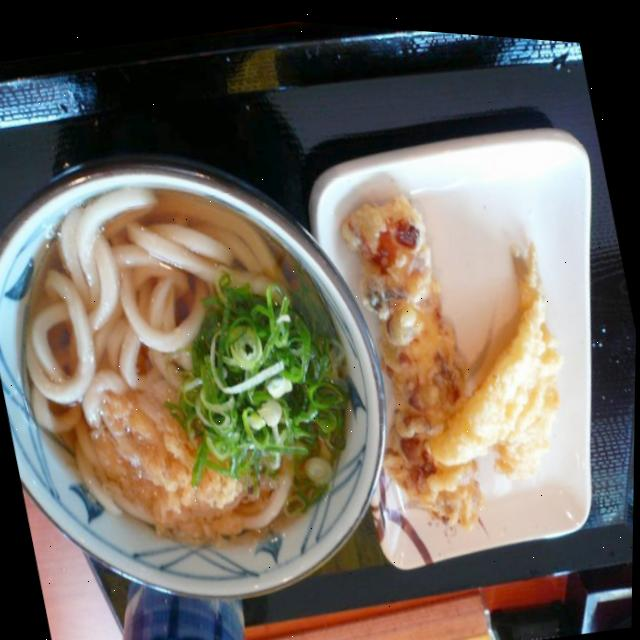面条主食: (0, 97, 408, 628)
